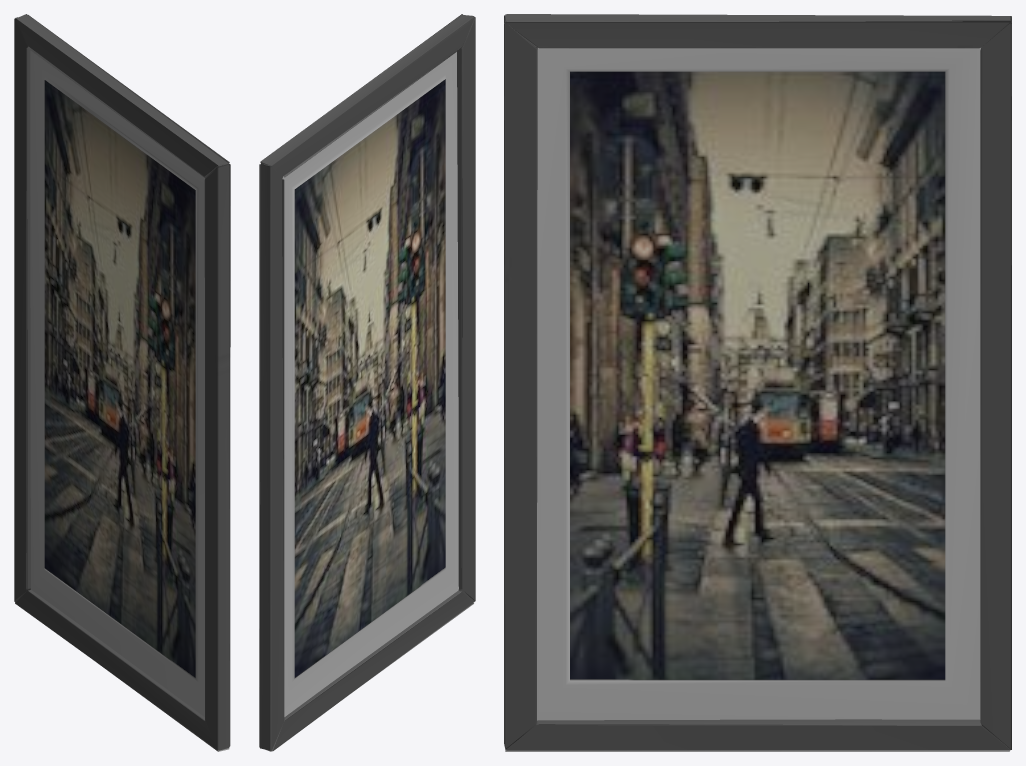
File: WallPainting0004.obj
The picture shows the model from 3 angles, left to right: view 1: azimuth 30°, elevation 25°; view 2: azimuth 150°, elevation 25°; view 3: azimuth 270°, elevation 25°; orthographic projection. The views are drawn at different scales.
Size of the model in its own units: 0.026 by 1.13 by 0.71.
1 material, 1 textured.
